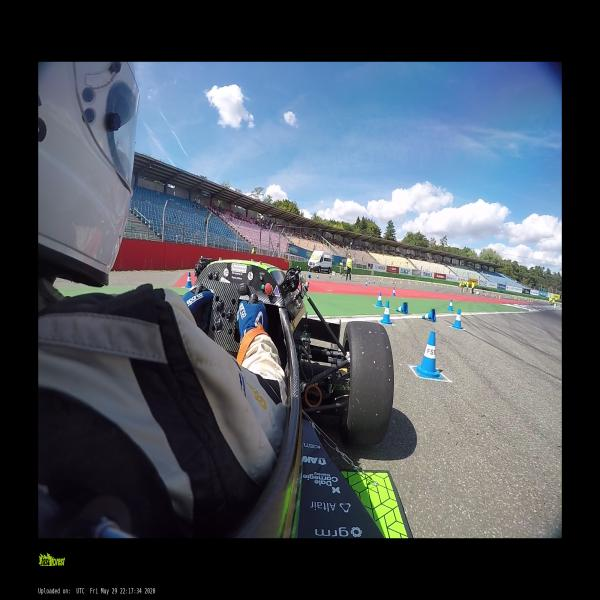blue_cone: (416, 332, 440, 378), (380, 300, 392, 326), (451, 308, 464, 330), (422, 308, 436, 322), (374, 292, 384, 308), (395, 302, 408, 314), (184, 272, 192, 288), (447, 299, 454, 311), (391, 288, 396, 296), (315, 273, 320, 279), (364, 280, 368, 287), (308, 273, 312, 279), (328, 273, 331, 278), (367, 279, 370, 284), (372, 279, 375, 282)
